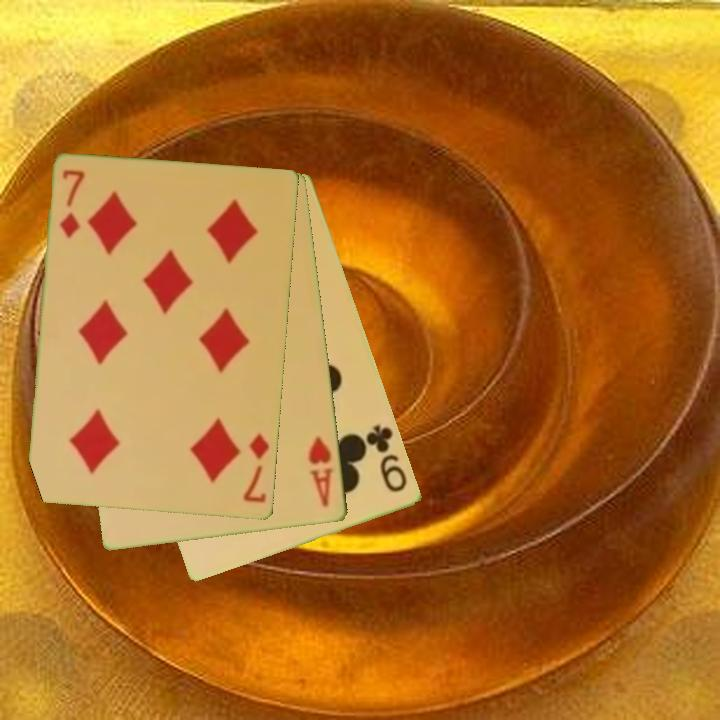7d: (240, 430, 273, 506), (56, 166, 88, 242)
9c: (363, 421, 411, 496)
Ah: (305, 433, 337, 510)
